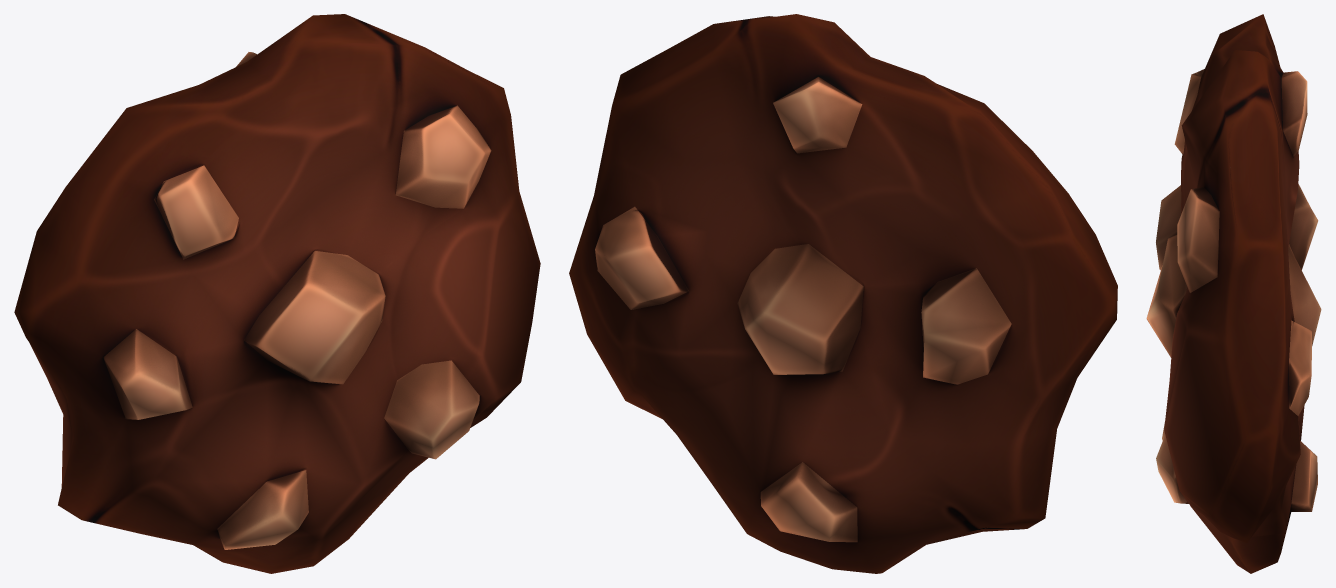
The model's file is dark0.glb.
The picture shows the model from 3 angles, left to right: view 1: azimuth 30°, elevation 25°; view 2: azimuth 150°, elevation 25°; view 3: azimuth 270°, elevation 25°; orthographic projection. The views are drawn at different scales.
Parts seen in each view (by area): view 1: cookie_03; view 2: cookie_03; view 3: cookie_03.
Part boxes in pixels (left/top/right/bottom): cookie_03: left=14, top=14, right=540, bottom=573; cookie_03: left=569, top=14, right=1117, bottom=573; cookie_03: left=1146, top=14, right=1321, bottom=573.
Bounding box in the file's own units: 0.4782 × 0.4701 × 0.1438.
1 material, 1 textured.
